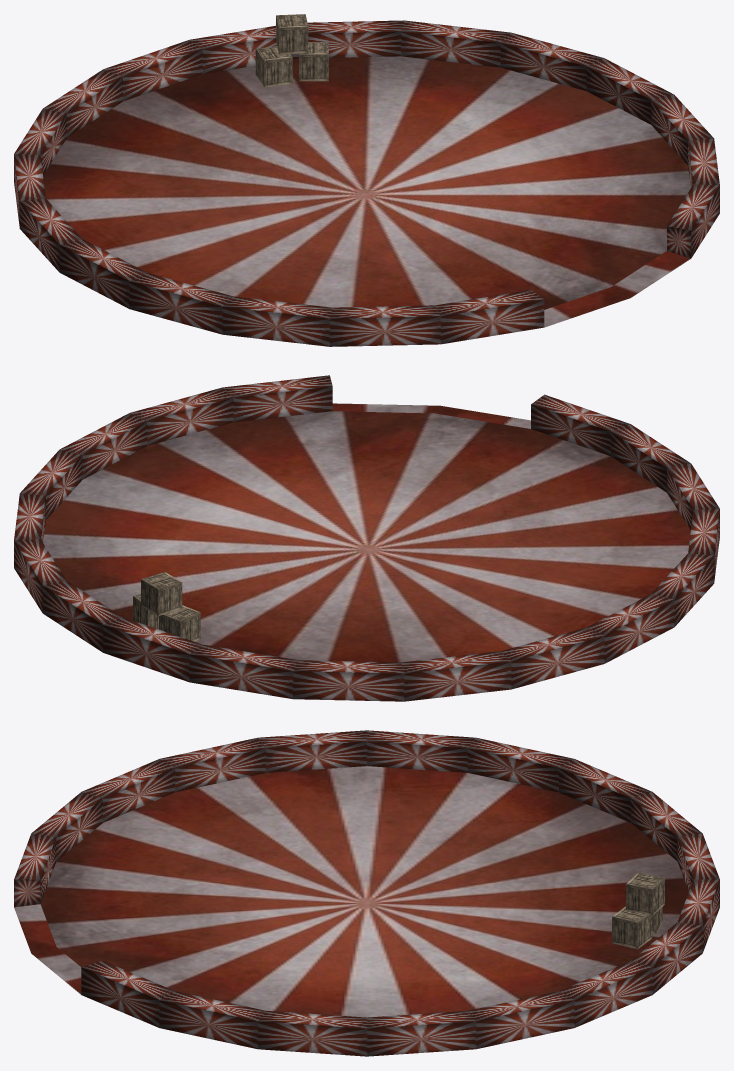
The model's file is CircusRING.FBX.
The picture shows the model from 3 angles, top to bottom: view 1: azimuth 30°, elevation 25°; view 2: azimuth 150°, elevation 25°; view 3: azimuth 270°, elevation 25°; orthographic projection.
Parts seen in each view (by area): view 1: Cylinder003, Box001, Box003, Box002; view 2: Cylinder003, Box003, Box001; view 3: Cylinder003, Box003, Box002.
Boxes of the visible parts, bbox=[...] form: Cylinder003: bbox=[14, 20, 719, 346]; Box001: bbox=[255, 46, 292, 87]; Box003: bbox=[276, 14, 308, 54]; Box002: bbox=[299, 42, 328, 81]; Cylinder003: bbox=[14, 375, 719, 701]; Box003: bbox=[141, 572, 182, 615]; Box001: bbox=[159, 605, 200, 641]; Cylinder003: bbox=[14, 730, 719, 1056]; Box003: bbox=[626, 873, 664, 915]; Box002: bbox=[612, 906, 652, 949].
Bounding box in the file's own units: 135 × 12.24 × 135.
Materials: 2 (2 with a texture image).
